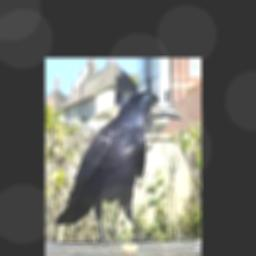Crow: (56, 88, 184, 244)
